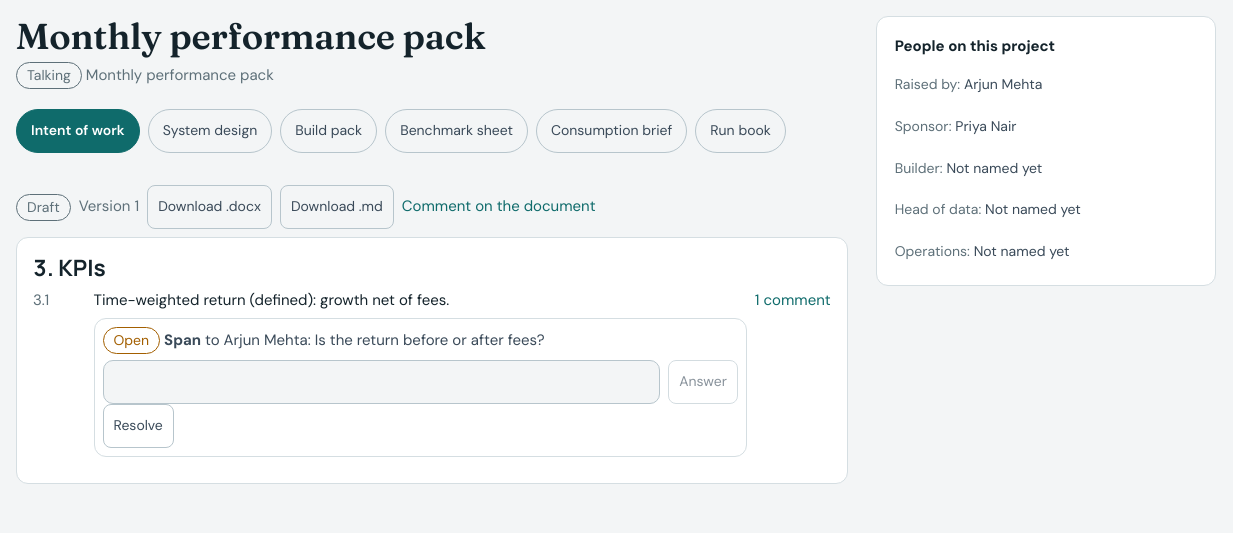
Test: says plainly when the answer is refused
The width and height of the screenshot is (1233, 533).
Type "After fees" into the field named "Answer Span" at coordinates (381, 382), box [102, 360, 660, 404]
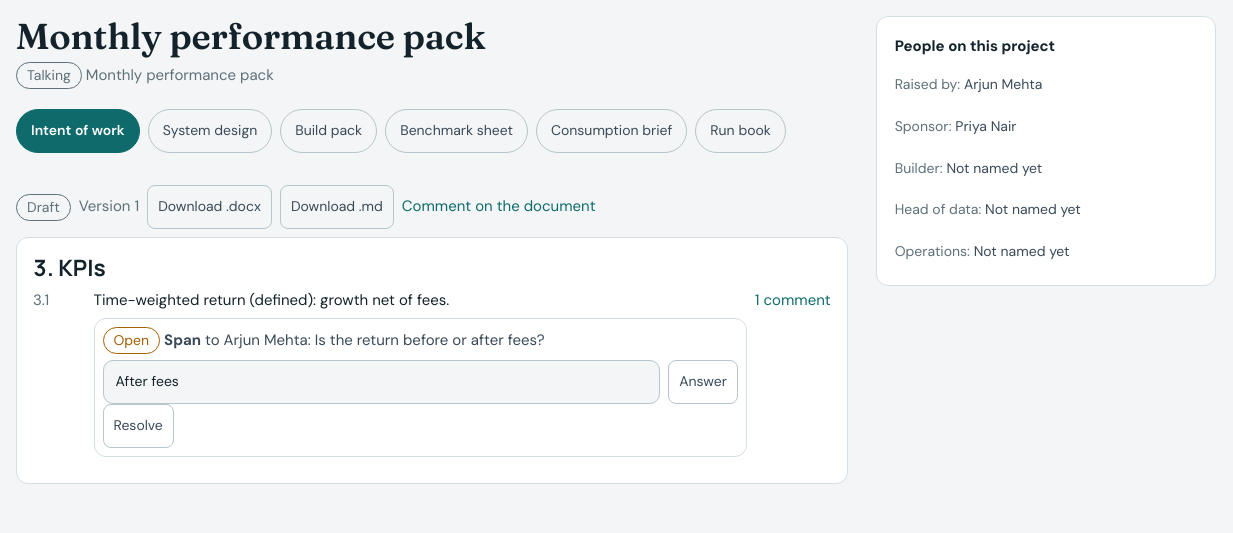
Click the button "Answer" at coordinates (703, 382), box [668, 360, 738, 404]
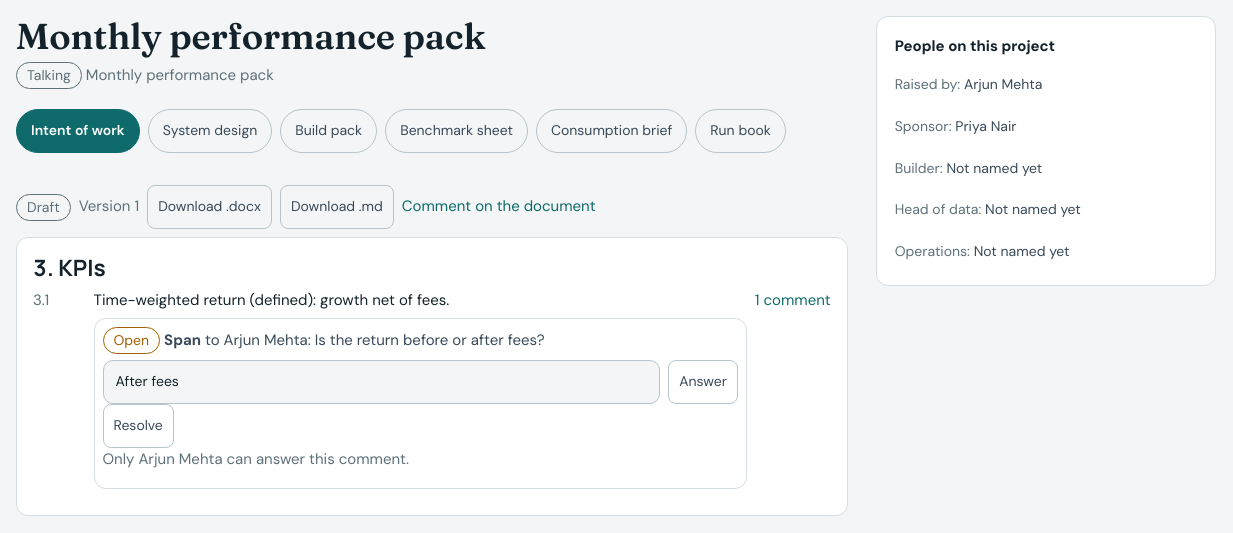
Check: the message reads "Only Arjun Mehta can answer this comment.", box [102, 449, 409, 469]
